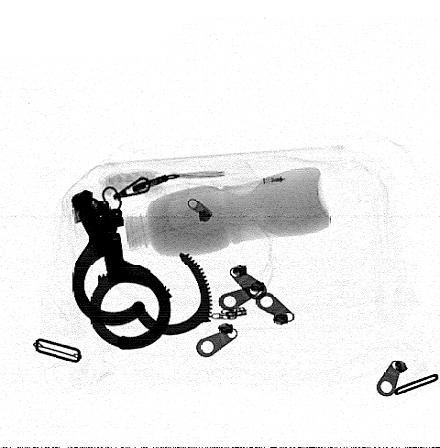HandCuffs: (68, 188, 215, 352)
